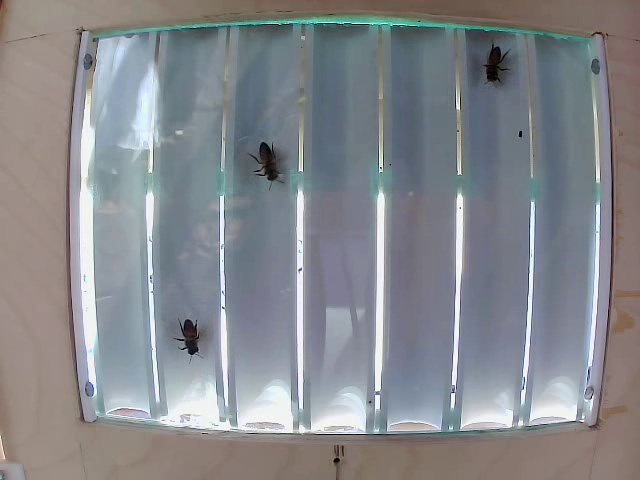bee: (174, 307, 209, 366), (253, 133, 279, 182), (481, 43, 507, 88)
